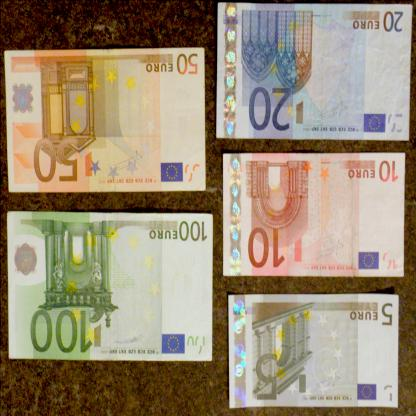euro_banknote: (9, 213, 214, 361), (6, 49, 207, 194), (216, 3, 412, 140), (225, 154, 407, 278), (229, 294, 400, 411)
